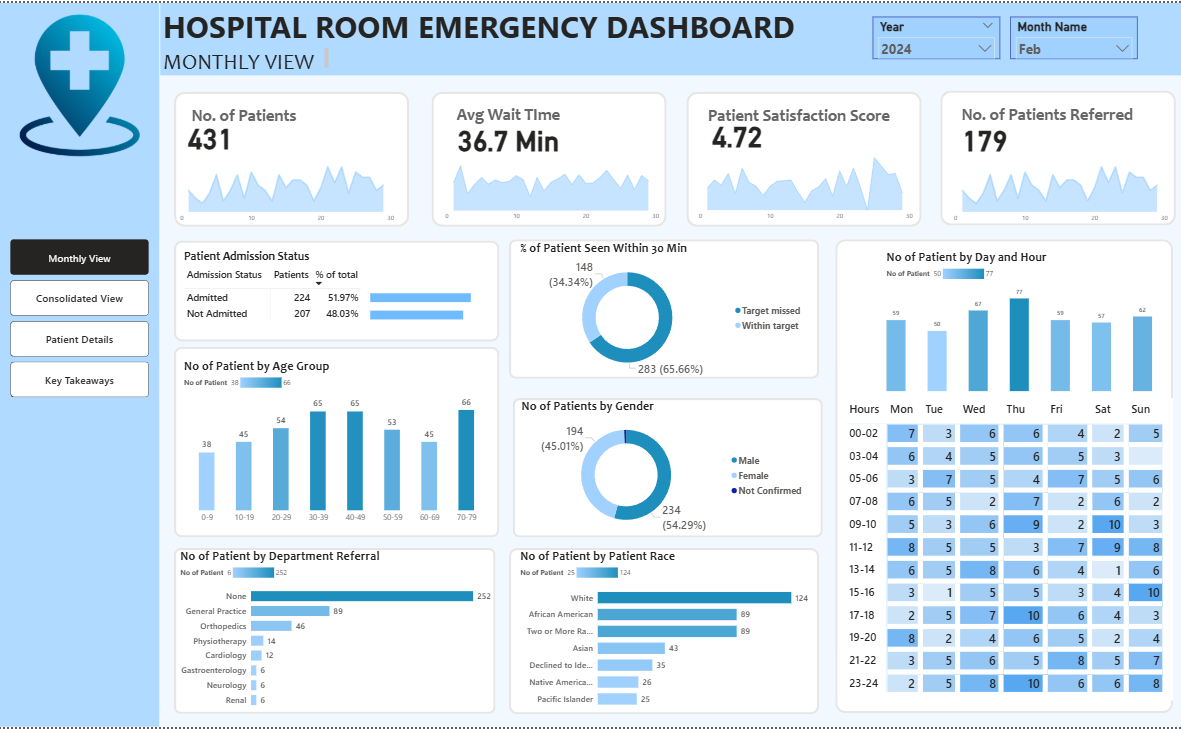

What the dashboard file says about the page in this screenshot:
{"tool":"powerbi","page":{"name":"Monthly View","canvas":[2300,1400],"ordinal":0},"visuals":[{"type":"shape","box":[9.9,0,310,1400.5],"z":0},{"type":"shape","box":[320.5,0,1980,140],"z":1000},{"type":"textbox","box":[320.5,0,1262.4,108.5],"z":2000},{"type":"shape","box":[347.7,172.6,455,261.4],"z":3000},{"type":"textbox","box":[320.5,81.4,330.4,54.2],"z":4000},{"type":"card","fields":{"Values":["Hospital ER_Data.No of Patient"]},"box":[244.3,171.8,348.3,171.8],"z":5000},{"type":"slicer","fields":{"Values":["Date Table.Year"]},"box":[1701.3,27.1,246.6,81.4],"z":6000},{"type":"slicer","fields":{"Values":["Date Table.Month Name"]},"box":[1967.6,27.1,246.6,81.4],"z":7000},{"type":"textbox","box":[377.3,192.3,214.5,54.2],"z":8000},{"type":"areaChart","fields":{"Category":["Date Table.Date.Variation.Date Hierarchy.Day"],"Y":["Hospital ER_Data.No of Patient"]},"box":[347.7,288.5,434,145.5],"z":9000},{"type":"shape","box":[846.9,170.8,455,261.4],"z":10000},{"type":"textbox","box":[890.3,190.5,214.5,54.2],"z":11000},{"type":"areaChart","fields":{"Category":["Date Table.Date.Variation.Date Hierarchy.Day"],"Y":["Avg(Hospital ER_Data.Patient Waittime)"]},"box":[860.7,286.7,434,145.5],"z":12000},{"type":"shape","box":[1340.3,170.9,455,261.4],"z":13000},{"type":"textbox","box":[1376.5,192.6,388.9,55.2],"z":14000},{"type":"areaChart","fields":{"Category":["Date Table.Date.Variation.Date Hierarchy.Day"],"Y":["Hospital ER_Data.Satisfaction score"]},"box":[1351.4,285.4,434,145.5],"z":15000},{"type":"shape","box":[1832,170.1,456.2,261.4],"z":16000},{"type":"textbox","box":[1866.5,190.7,383.8,55.2],"z":17000},{"type":"areaChart","fields":{"Category":["Date Table.Date.Variation.Date Hierarchy.Day"],"Y":["Hospital ER_Data.No of Patient"]},"box":[1845.4,286.9,434,145.5],"z":18000},{"type":"card","fields":{"Values":["Hospital ER_Data.Avg Wait Tmme"]},"box":[822.5,174.2,345.9,171.8],"z":19000},{"type":"shape","box":[348.7,459.1,629.7,195.7],"z":20000},{"type":"card","fields":{"Values":["Hospital ER_Data.Satisfaction score"]},"box":[1264.4,168.1,346.2,173.1],"z":21000},{"type":"card","fields":{"Values":["Hospital ER_Data.No of Patient Referred"]},"box":[1743.6,173.1,346.2,173.1],"z":22000},{"type":"pivotTable","title":"Patient Admission Status","fields":{"Rows":["Hospital ER_Data.Admission Status"],"Values":["Hospital ER_Data.No of Patient","Divide(Hospital ER_Data.No of Patient, ScopedEval(Hospital ER_Data.No of Patient, []))"]},"box":[363.8,476.7,602.1,160.6],"z":23000},{"type":"barChart","fields":{"Category":["Hospital ER_Data.Admission Status"],"Y":["Hospital ER_Data.No of Patient"]},"box":[724.4,531.7,270.7,104.9],"z":24000},{"type":"shape","box":[348.7,665.8,629.7,368.8],"z":25000},{"type":"clusteredColumnChart","fields":{"Category":["Hospital ER_Data.Age Group"],"Y":["Hospital ER_Data.No of Patient"]},"box":[363.8,685.9,602.1,328.6],"z":26000},{"type":"shape","box":[348.7,1053.7,622.2,321.1],"z":27000},{"type":"clusteredBarChart","fields":{"Category":["Hospital ER_Data.Department Referral"],"Y":["Hospital ER_Data.No of Patient"]},"box":[356.2,1053.7,614.6,321.1],"z":28000},{"type":"shape","box":[996.6,457.2,600,270],"z":29000},{"type":"donutChart","title":"% of Patient Seen Within 30 Min","fields":{"Category":["Hospital ER_Data.Waittime Status"],"Y":["Hospital ER_Data.No of Patient"]},"box":[1013.6,459.6,561.2,268.5],"z":30000},{"type":"shape","box":[1002.7,763.8,600,270],"z":31000},{"type":"donutChart","title":"No of Patients by Gender","fields":{"Category":["Hospital ER_Data.Patient Gender"],"Y":["Hospital ER_Data.No of Patient"]},"box":[1016.6,763.9,561,268.3],"z":32000},{"type":"shape","box":[997.6,1053.7,600,322],"z":33000},{"type":"clusteredBarChart","fields":{"Category":["Hospital ER_Data.Patient Race"],"Y":["Hospital ER_Data.No of Patient"]},"box":[1014.6,1053.7,568.3,322],"z":34000},{"type":"shape","box":[1626.8,456.1,653.7,917.1],"z":35000},{"type":"pivotTable","fields":{"Columns":["Date Table.Day Name"],"Rows":["Hospital ER_Data.Waittime Interval"],"Values":["Hospital ER_Data.No of Patient"]},"box":[1643.9,763.4,636.6,585.4],"z":36000},{"type":"columnChart","title":"No of Patient by Day and Hour","fields":{"Category":["Date Table.Day Name"],"Y":["Hospital ER_Data.No of Patient"]},"box":[1722,475.6,526.8,280.5],"z":37000},{"type":"image","box":[22,17.1,287.8,285.4],"z":38000},{"type":"pageNavigator","box":[31.7,456.1,268.3,309.8],"z":39000}]}

Visuals, with their boxes in screenshot pixels (x1, y1, x2, y2), scaled from the page's 2300x1400 canvas onto the 1181x729 screenshot:
shape: box(5, 0, 164, 728)
shape: box(165, 0, 1180, 73)
textbox: box(165, 0, 813, 56)
shape: box(179, 90, 412, 226)
textbox: box(165, 42, 334, 71)
card - Hospital ER_Data.No of Patient: box(125, 89, 304, 179)
slicer - Date Table.Year: box(874, 14, 1000, 56)
slicer - Date Table.Month Name: box(1010, 14, 1137, 56)
textbox: box(194, 100, 304, 128)
areaChart - Date Table.Date.Variation.Date Hierarchy.Day x Hospital ER_Data.No of Patient: box(179, 150, 401, 226)
shape: box(435, 89, 668, 225)
textbox: box(457, 99, 567, 127)
areaChart - Date Table.Date.Variation.Date Hierarchy.Day x Avg(Hospital ER_Data.Patient Waittime): box(442, 149, 665, 225)
shape: box(688, 89, 922, 225)
textbox: box(707, 100, 906, 129)
areaChart - Date Table.Date.Variation.Date Hierarchy.Day x Hospital ER_Data.Satisfaction score: box(694, 149, 917, 224)
shape: box(941, 89, 1175, 225)
textbox: box(958, 99, 1155, 128)
areaChart - Date Table.Date.Variation.Date Hierarchy.Day x Hospital ER_Data.No of Patient: box(948, 149, 1170, 225)
card - Hospital ER_Data.Avg Wait Tmme: box(422, 91, 600, 180)
shape: box(179, 239, 502, 341)
card - Hospital ER_Data.Satisfaction score: box(649, 88, 827, 178)
card - Hospital ER_Data.No of Patient Referred: box(895, 90, 1073, 180)
"Patient Admission Status" pivotTable: box(187, 248, 496, 332)
barChart - Hospital ER_Data.Admission Status x Hospital ER_Data.No of Patient: box(372, 277, 511, 331)
shape: box(179, 347, 502, 539)
clusteredColumnChart - Hospital ER_Data.Age Group x Hospital ER_Data.No of Patient: box(187, 357, 496, 528)
shape: box(179, 549, 499, 716)
clusteredBarChart - Hospital ER_Data.Department Referral x Hospital ER_Data.No of Patient: box(183, 549, 498, 716)
shape: box(512, 238, 820, 379)
"% of Patient Seen Within 30 Min" donutChart: box(520, 239, 809, 379)
shape: box(515, 398, 823, 538)
"No of Patients by Gender" donutChart: box(522, 398, 810, 537)
shape: box(512, 549, 820, 716)
clusteredBarChart - Hospital ER_Data.Patient Race x Hospital ER_Data.No of Patient: box(521, 549, 813, 716)
shape: box(835, 237, 1171, 715)
pivotTable - Date Table.Day Name x Hospital ER_Data.Waittime Interval: box(844, 398, 1171, 702)
"No of Patient by Day and Hour" columnChart: box(884, 248, 1155, 394)
image: box(11, 9, 159, 158)
pageNavigator: box(16, 237, 154, 399)
